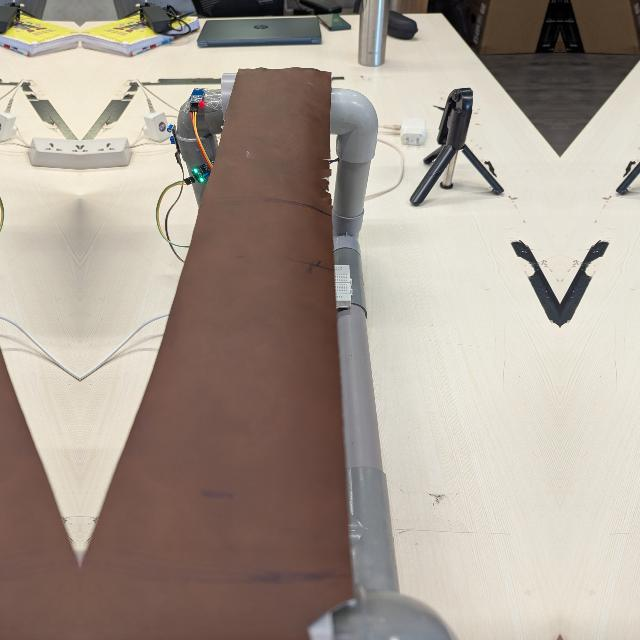belt_tear: (307, 586, 363, 640)
edge_damage: (310, 144, 343, 213)
